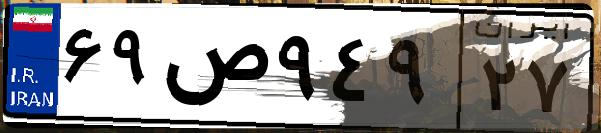2: (475, 38, 525, 113)
4: (330, 28, 385, 110)
6: (57, 26, 110, 100)
7: (525, 38, 570, 115)
9: (270, 28, 330, 110), (385, 28, 445, 110), (110, 28, 158, 98)
ص: (158, 20, 270, 120)
